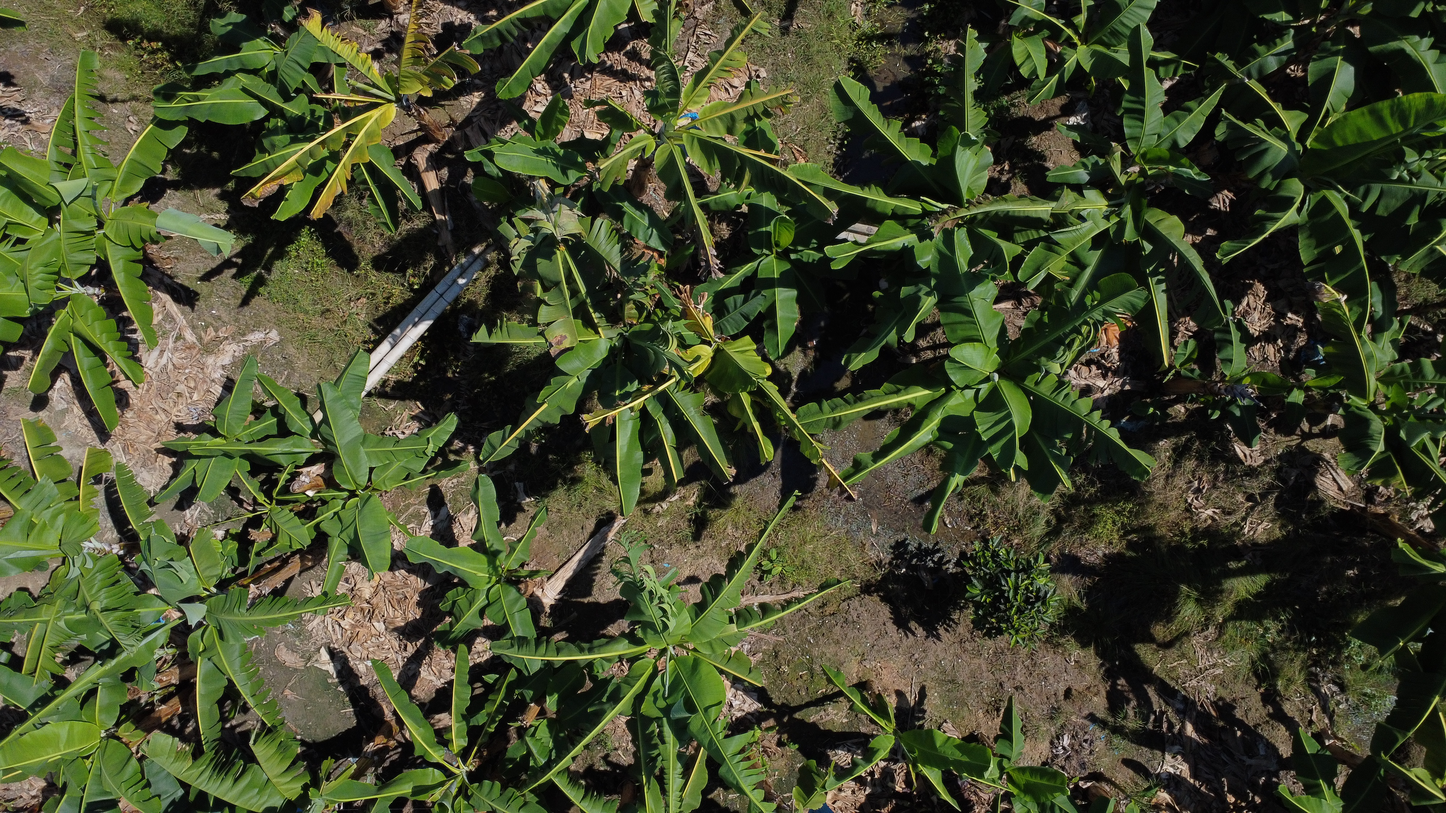panama: (240, 0, 477, 207), (610, 259, 803, 457), (650, 38, 827, 213)
